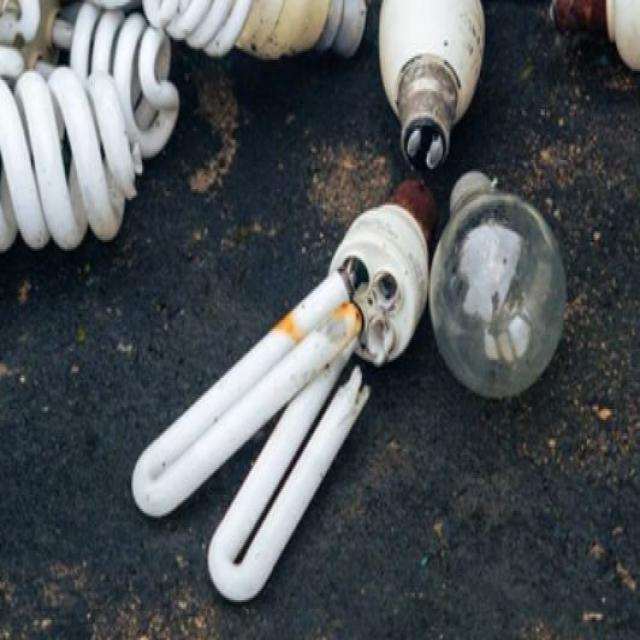electronic: (427, 167, 567, 400), (377, 0, 486, 173), (138, 0, 368, 62), (548, 0, 638, 73)
